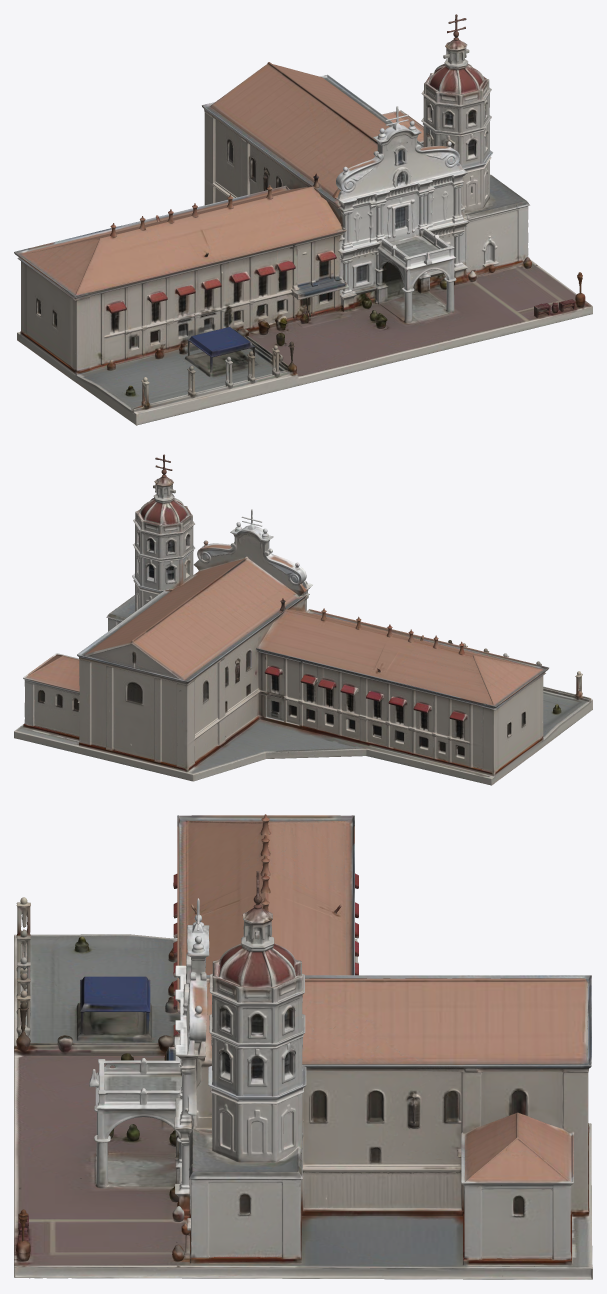
File: BetisChurch.glb
3 views of the same model, one above another, from view 1: azimuth 30°, elevation 25°; view 2: azimuth 150°, elevation 25°; view 3: azimuth 270°, elevation 25° (orthographic). The views are drawn at different scales.
Size of the model in its own units: 0.8945 by 0.4623 by 0.6575.
1 material, 1 textured.
